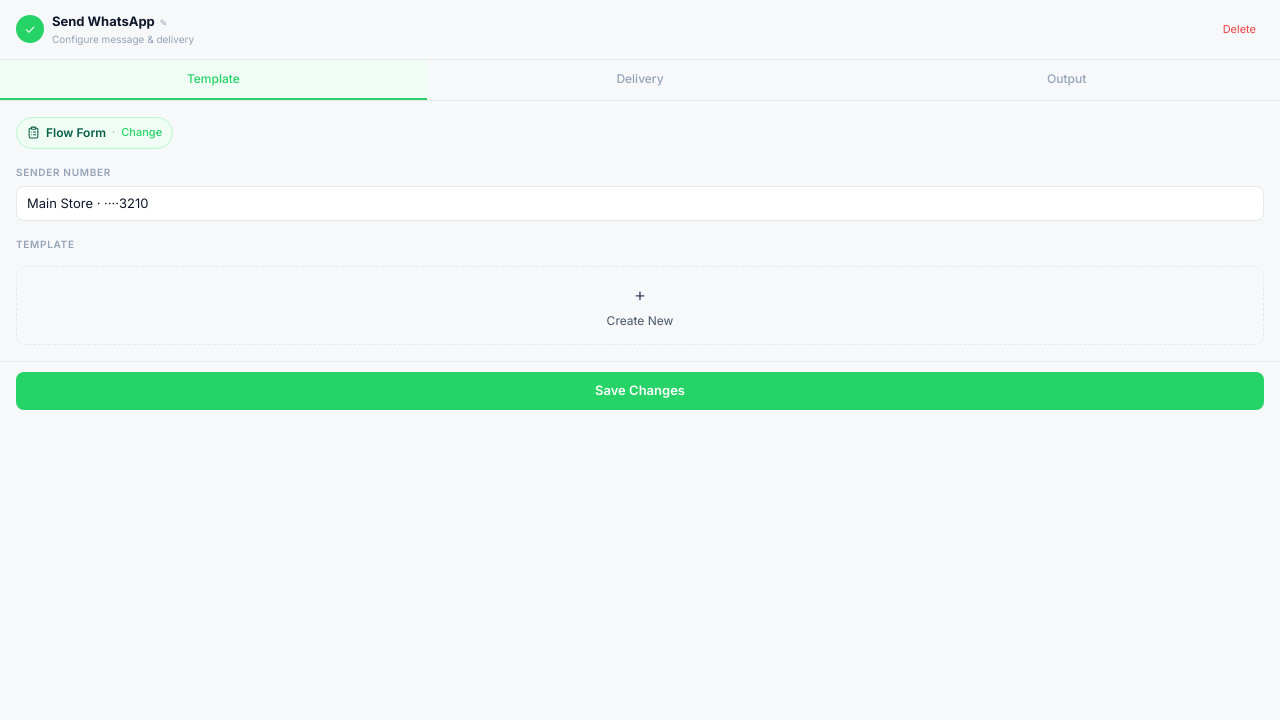
Test case: Flow Form — Complete flow button preselected on Create New › pre-selects Complete flow as the button type when creating a brand-new Flow Form template
Click the button "+ Create New" at (640, 306), box [16,266,1264,345]
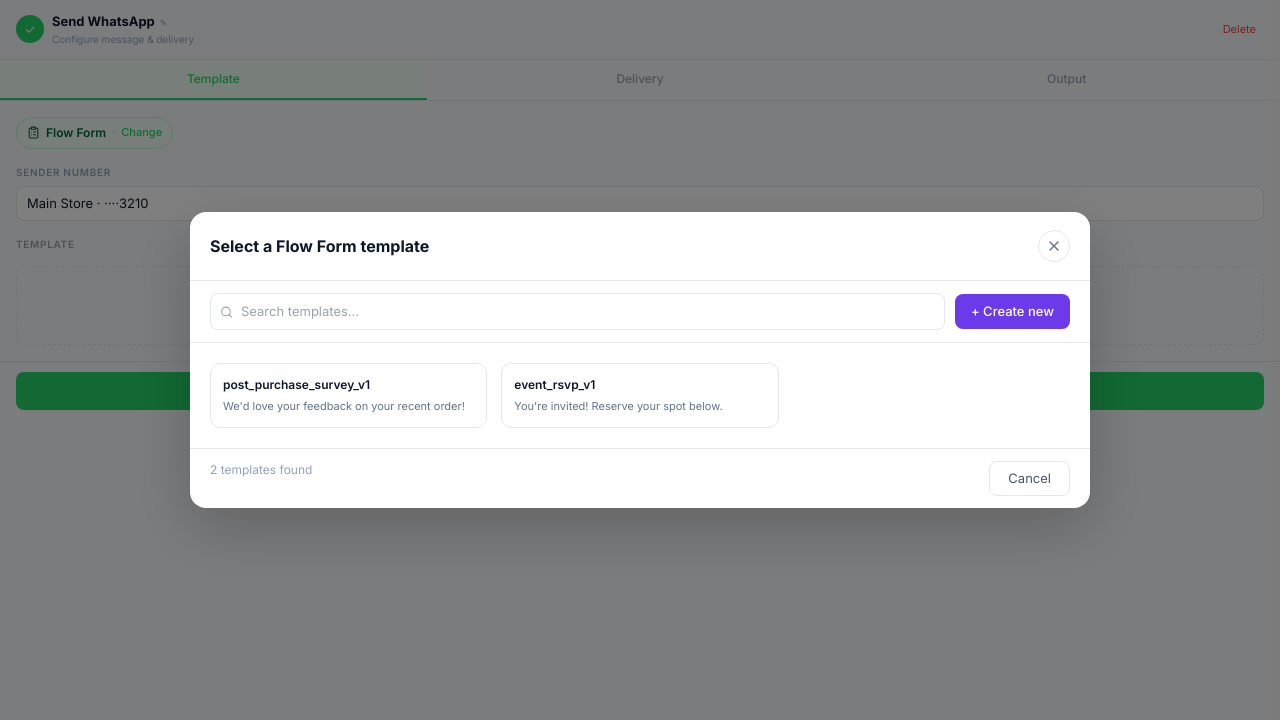
Click the button "+ Create new" at (1012, 312), box [955,294,1070,329]
(page scrolled)
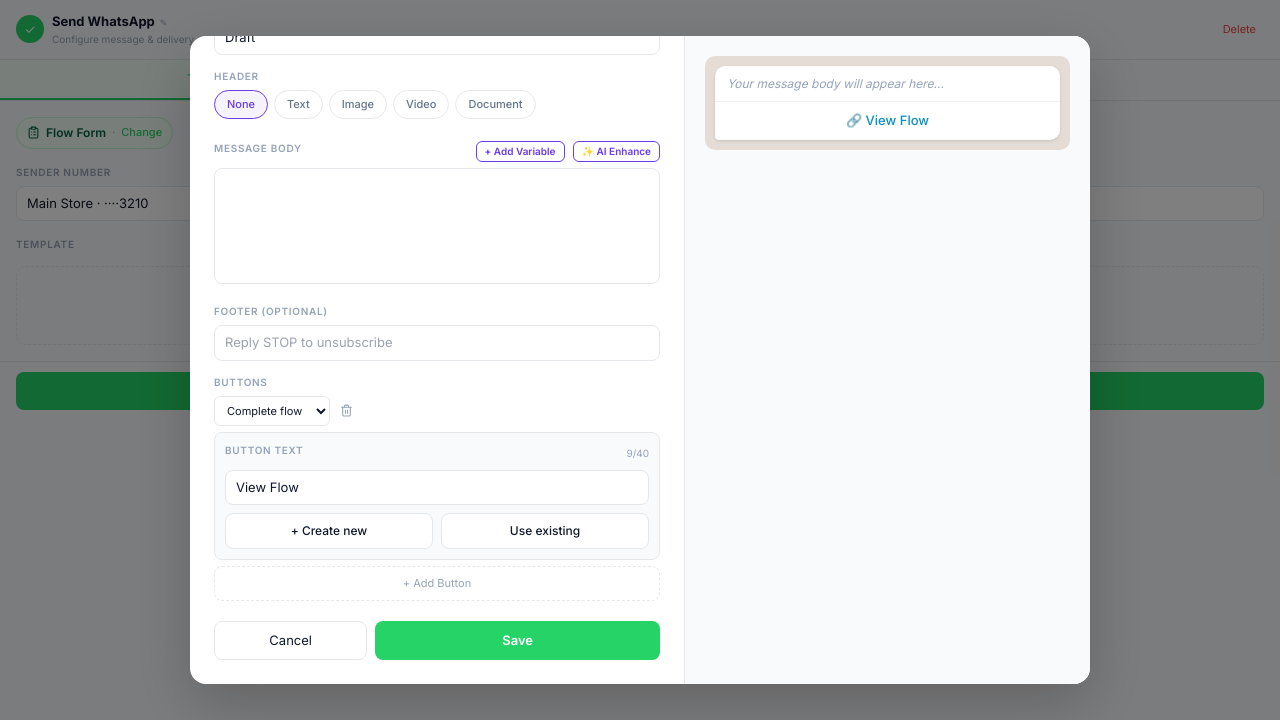
Expected: the dropdown below "Buttons" shows "Complete flow", [214,396,330,426]
Expected: the field showing "View Flow" is shown, [225,470,649,505]
